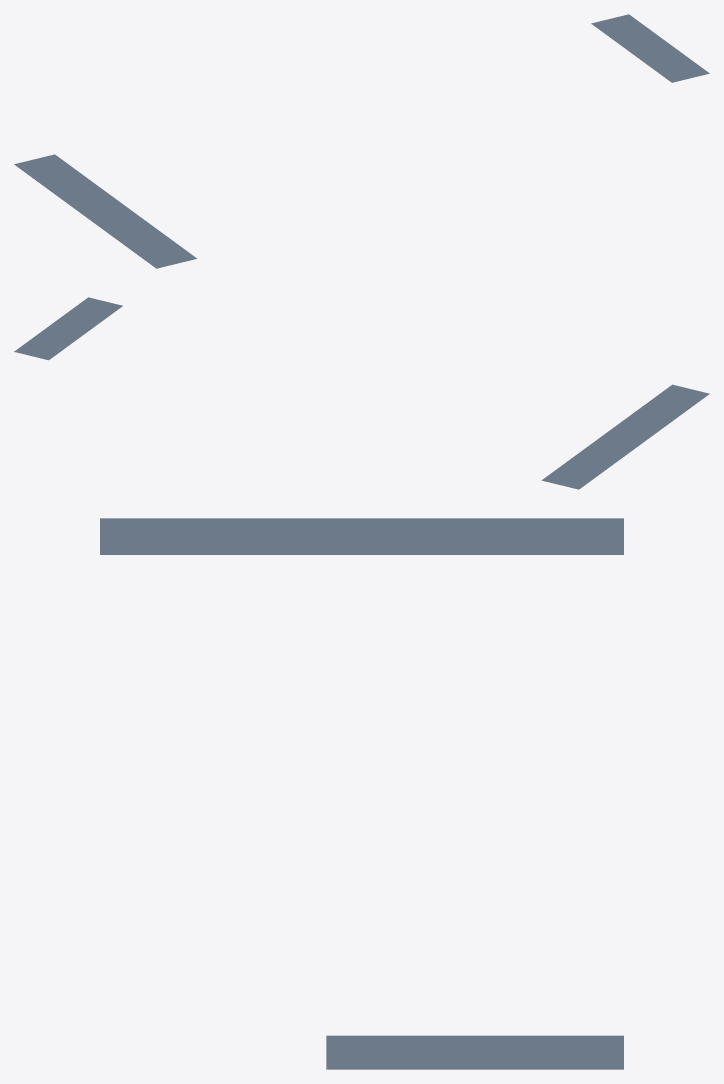
The model's file is SM_MPR_Env_Near_Parking.fbx.
3 views of the same model, one above another, from view 1: azimuth 30°, elevation 25°; view 2: azimuth 150°, elevation 25°; view 3: azimuth 270°, elevation 25° (orthographic). The views are drawn at different scales.
Visible parts, largest first — view 1: SM_MPR_Env_Near_Parking; view 2: SM_MPR_Env_Near_Parking; view 3: SM_MPR_Env_Near_Parking.
Part boxes in pixels (x1=…): SM_MPR_Env_Near_Parking: x1=14, y1=14, x2=709, y2=268; SM_MPR_Env_Near_Parking: x1=14, y1=297, x2=709, y2=489; SM_MPR_Env_Near_Parking: x1=100, y1=518, x2=623, y2=1069.
Bounding box in the file's own units: 42100 × 16900 × 5.
